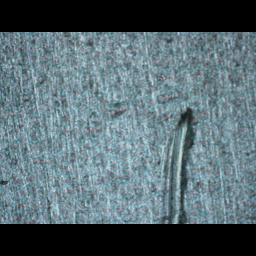d: (155, 106, 196, 223)
